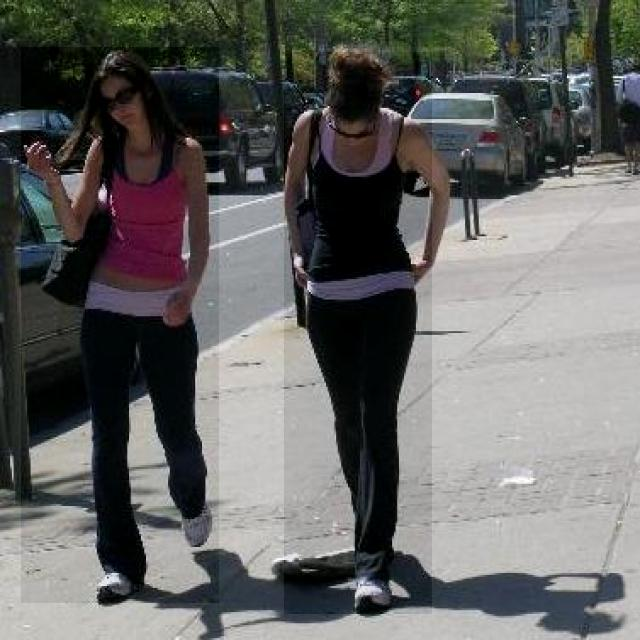with scooter: (21, 47, 219, 603), (284, 52, 432, 614)
